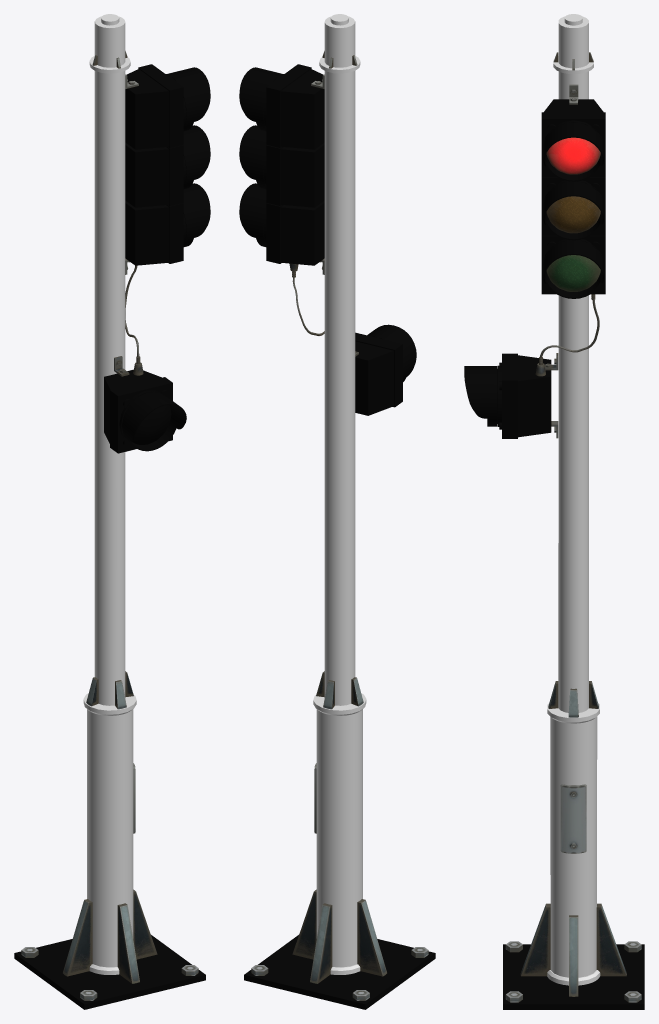
The model's file is lowQualtiy1.glb.
3 renders of one model, left to right at view 1: azimuth 30°, elevation 25°; view 2: azimuth 150°, elevation 25°; view 3: azimuth 270°, elevation 25°, orthographic.
Parts seen in each view (by area): view 1: Cylinder.008, LightCube.003, Plane.004, LightCube.004__0, Cylinder.010, Cylinder.012, Cylinder.014; view 2: Cylinder.008, LightCube.003, Plane.004, LightCube.004__0, Cylinder.010, Cylinder.012, Cylinder.014; view 3: Cylinder.008, LightCube.003, LightCube.004__0, Plane.004, LightCube.005, Cylinder.012, Cylinder.013, Cylinder.010, Cylinder.014.
Boxes of the visible parts, box(x1,y1,x2,y2) form: Cylinder.008: box(83, 14, 136, 974); LightCube.003: box(125, 64, 210, 265); Plane.004: box(14, 935, 205, 1009); LightCube.004__0: box(104, 369, 186, 453); Cylinder.010: box(63, 889, 157, 976); Cylinder.012: box(117, 903, 139, 983); Cylinder.014: box(21, 947, 198, 1000); Cylinder.008: box(313, 14, 366, 974); LightCube.003: box(239, 64, 324, 265); Plane.004: box(244, 935, 435, 1009); LightCube.004__0: box(355, 324, 416, 415); Cylinder.010: box(292, 889, 386, 976); Cylinder.012: box(310, 903, 332, 983); Cylinder.014: box(251, 947, 428, 1000); Cylinder.008: box(547, 14, 600, 985); LightCube.003: box(541, 99, 605, 298); LightCube.004__0: box(464, 353, 551, 438); Plane.004: box(503, 944, 644, 1009); LightCube.005: box(546, 137, 600, 291); Cylinder.012: box(520, 903, 626, 976); Cylinder.013: box(560, 784, 586, 853); Cylinder.010: box(569, 915, 578, 996); Cylinder.014: box(505, 941, 641, 1002).
Bounding box in the file's own units: 0.7502 × 4.53 × 0.7693.
Materials: 3 (1 with a texture image).
